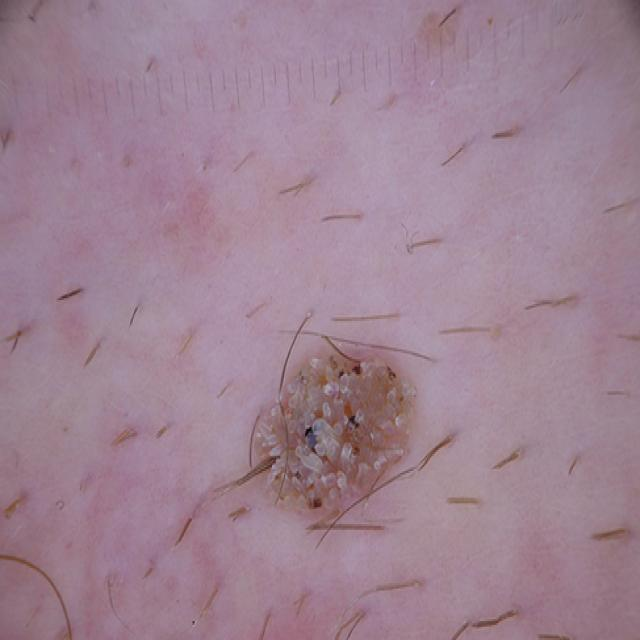Keratosis: (233, 305, 491, 616)
